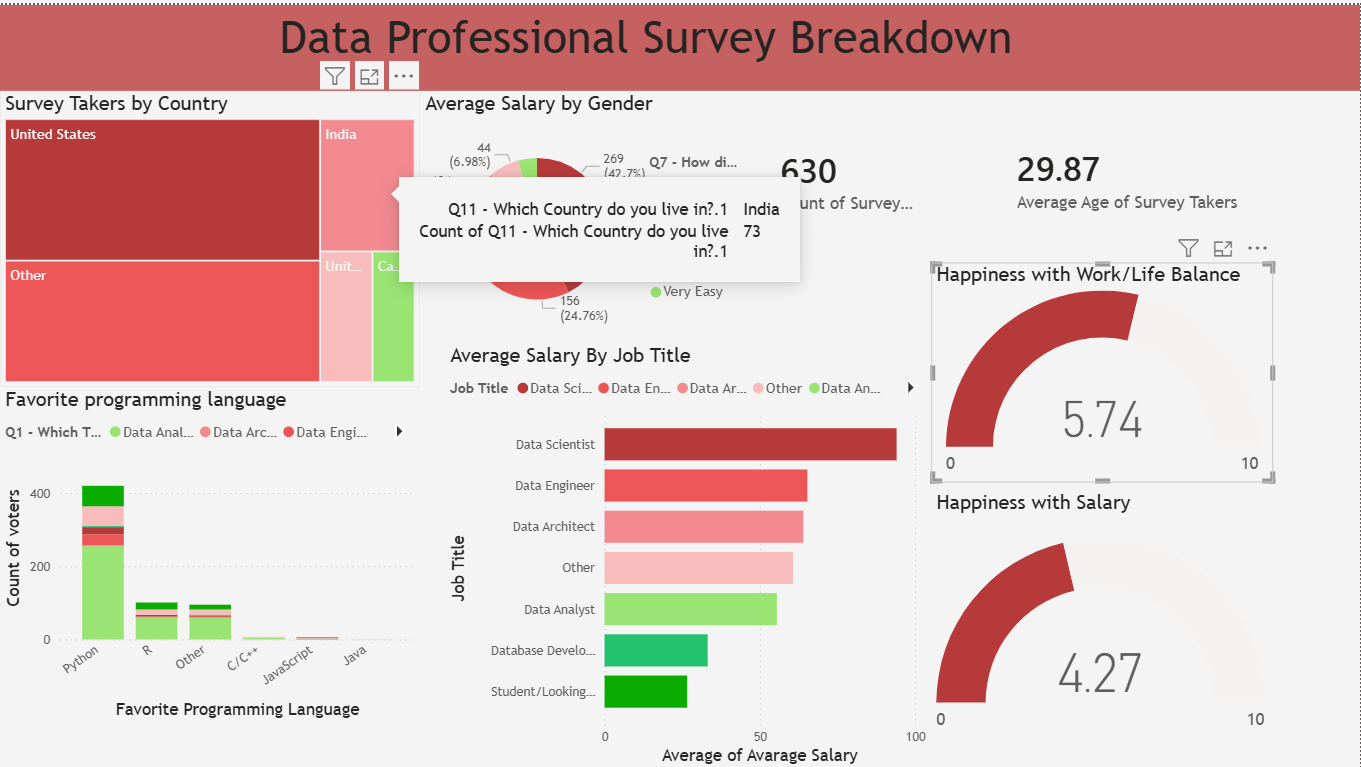

The page's visual inventory and layout, read from the dashboard file:
{"tool":"powerbi","page":{"name":"Page 1","canvas":[1280,720],"ordinal":0},"visuals":[{"type":"textbox","box":[10,0,280,280],"z":0},{"type":"textbox","box":[0,0,1280.3,81],"z":1000},{"type":"textbox","box":[10,570,280,150],"z":2000},{"type":"cardVisual","fields":{"Data":["Count(Data Professional Survey.Unique ID)"]},"box":[675.3,81.2,274.1,152.9],"z":3000},{"type":"cardVisual","fields":{"Data":["Avg(Data Professional Survey.Q10 - Current Age)"]},"box":[927.1,81.2,271.8,161.2],"z":4000},{"type":"barChart","title":"Average Salary By Job Title","fields":{"Category":["Data Professional Survey.Q1 - Which Title Best Fits your Current Role?.1"],"Y":["Avg(Data Professional Survey.Avarage Salary)"],"Series":["Data Professional Survey.Q1 - Which Title Best Fits your Current Role?.1"]},"box":[418.8,318.8,457.6,401.2],"z":5000},{"type":"columnChart","title":"Favorite programming language","fields":{"Category":["Data Professional Survey.Q5 - Favorite Programming Language.1"],"Y":["CountNonNull(Data Professional Survey.Unique ID)"],"Series":["Data Professional Survey.Q1 - Which Title Best Fits your Current Role?.1"]},"box":[0,360,395.3,316.5],"z":5001},{"type":"gauge","title":"Happiness with Work/Life Balance","fields":{"Y":["Avg(Data Professional Survey.Q6 - How Happy are you in your Current Position with the following? (Work/Life Balance))"],"MinValue":["Min(Data Professional Survey.Q6 - How Happy are you in your Current Position with the following? (Work/Life Balance))"],"MaxValue":["Max(Data Professional Survey.Q6 - How Happy are you in your Current Position with the following? (Work/Life Balance))1"]},"box":[876.5,242.4,322.4,207.1],"z":5002},{"type":"gauge","title":"Happiness with Salary","fields":{"MinValue":["Min(Data Professional Survey.Q6 - How Happy are you in your Current Position with the following? (Salary))"],"Y":["Avg(Data Professional Survey.Q6 - How Happy are you in your Current Position with the following? (Salary))"],"MaxValue":["Max(Data Professional Survey.Q6 - How Happy are you in your Current Position with the following? (Salary))1"]},"box":[876.5,456.5,318.8,252.9],"z":5003},{"type":"donutChart","title":" Average Salary by Gender ","fields":{"Category":["Data Professional Survey.Q7 - How difficult was it for you to break into Data?"],"Y":["CountNonNull(Data Professional Survey.Q7 - How difficult was it for you to break into Data?)"]},"box":[395.3,81.2,311.8,237.6],"z":5004},{"type":"treemap","title":"Survey Takers by Country","fields":{"Group":["Data Professional Survey.Q11 - Which Country do you live in?.1"],"Values":["CountNonNull(Data Professional Survey.Q11 - Which Country do you live in?.1)"]},"box":[0,81.2,395.3,278.8],"z":5005}]}

Visuals, with their boxes in screenshot pixels (x1, y1, x2, y2), scaled from the page's 1280x720 canvas onto the 1361x767 screenshot:
textbox: <bbox>11, 0, 308, 298</bbox>
textbox: <bbox>0, 0, 1360, 86</bbox>
textbox: <bbox>11, 607, 308, 766</bbox>
cardVisual - Count(Data Professional Survey.Unique ID): <bbox>718, 87, 1009, 249</bbox>
cardVisual - Avg(Data Professional Survey.Q10 - Current Age): <bbox>986, 87, 1275, 258</bbox>
"Average Salary By Job Title" barChart: <bbox>445, 340, 932, 766</bbox>
"Favorite programming language" columnChart: <bbox>0, 384, 420, 721</bbox>
"Happiness with Work/Life Balance" gauge: <bbox>932, 258, 1275, 479</bbox>
"Happiness with Salary" gauge: <bbox>932, 486, 1271, 756</bbox>
" Average Salary by Gender " donutChart: <bbox>420, 87, 752, 340</bbox>
"Survey Takers by Country" treemap: <bbox>0, 87, 420, 384</bbox>
